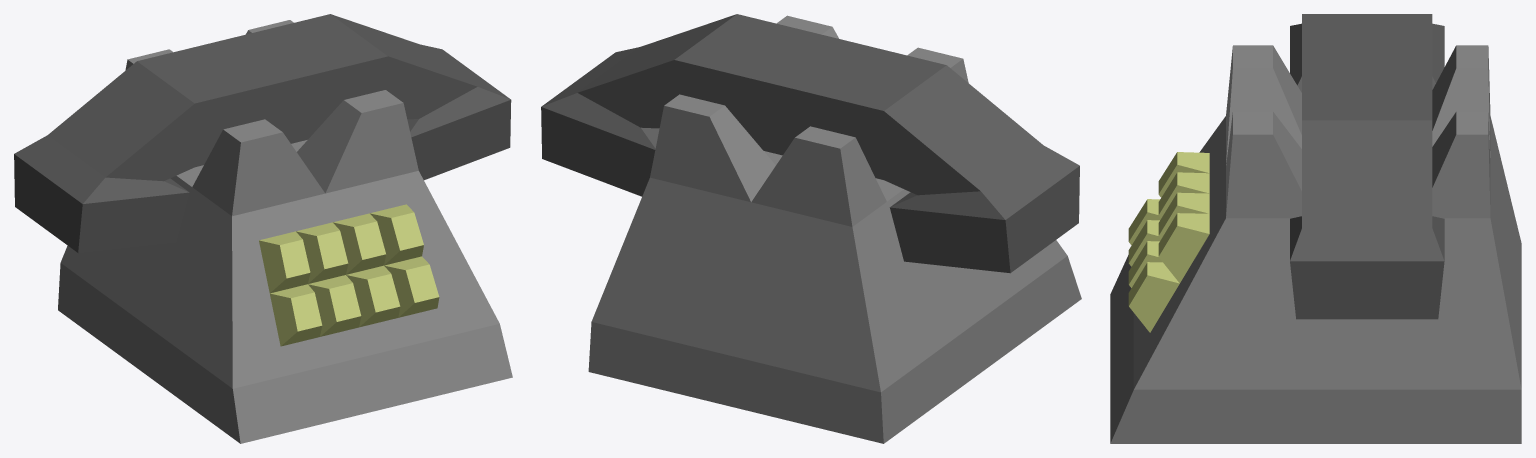
File: phone.fbx
3 views of the same model, side by side, from view 1: azimuth 30°, elevation 25°; view 2: azimuth 150°, elevation 25°; view 3: azimuth 270°, elevation 25° (orthographic). The views are drawn at different scales.
Parts seen in each view (by area): view 1: Cube, Cube.001; view 2: Cube, Cube.001; view 3: Cube, Cube.001.
Boxes of the visible parts, bbox=[...] form: Cube: bbox=[58, 20, 512, 443]; Cube.001: bbox=[14, 14, 511, 252]; Cube: bbox=[588, 15, 1081, 443]; Cube.001: bbox=[541, 14, 1079, 273]; Cube: bbox=[1110, 45, 1521, 443]; Cube.001: bbox=[1290, 14, 1444, 319].
Bounding box in the file's own units: 317 × 188 × 232.
